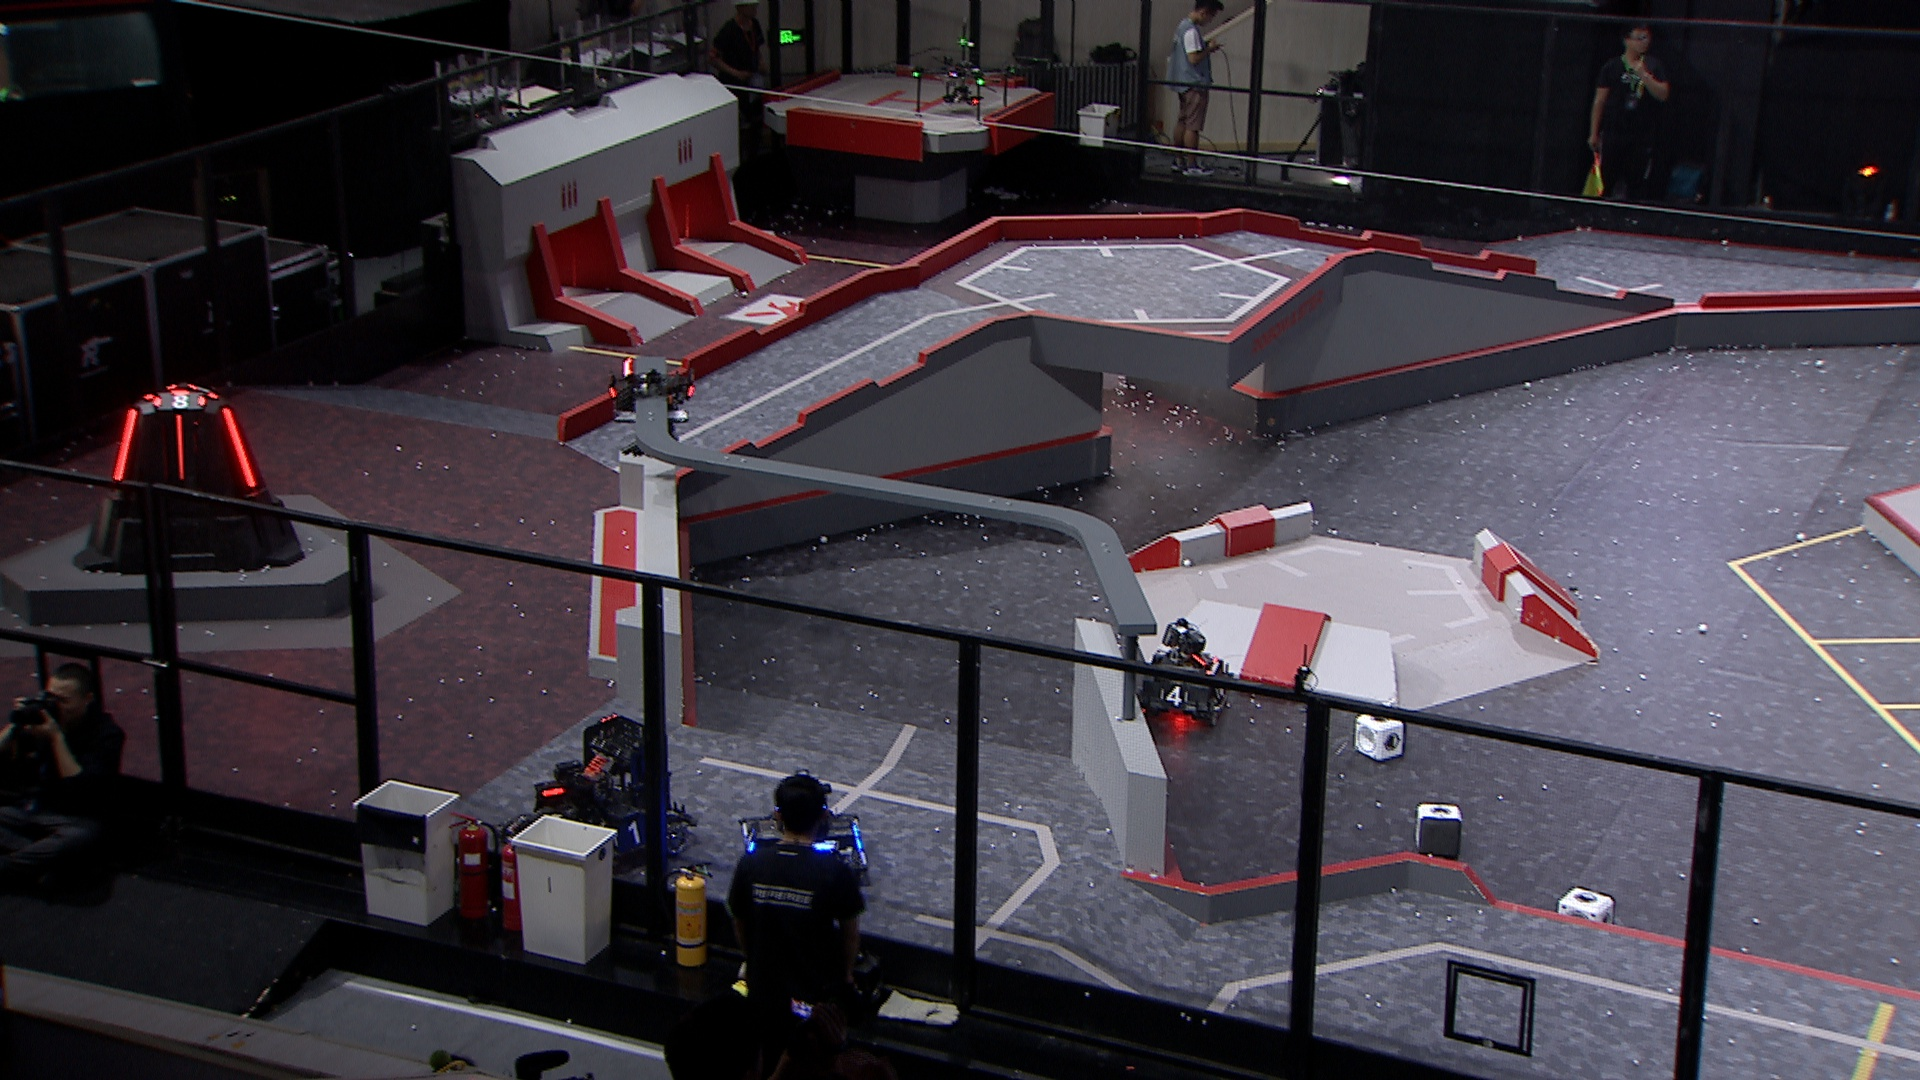armor: (222, 406, 257, 491), (112, 407, 140, 477), (152, 389, 206, 410), (173, 414, 189, 480), (611, 822, 646, 847), (1159, 684, 1191, 707), (741, 828, 760, 855)
base: (69, 381, 306, 578)
car: (501, 712, 698, 877), (738, 773, 870, 885), (1131, 618, 1233, 728)
watcher: (611, 357, 694, 462)
